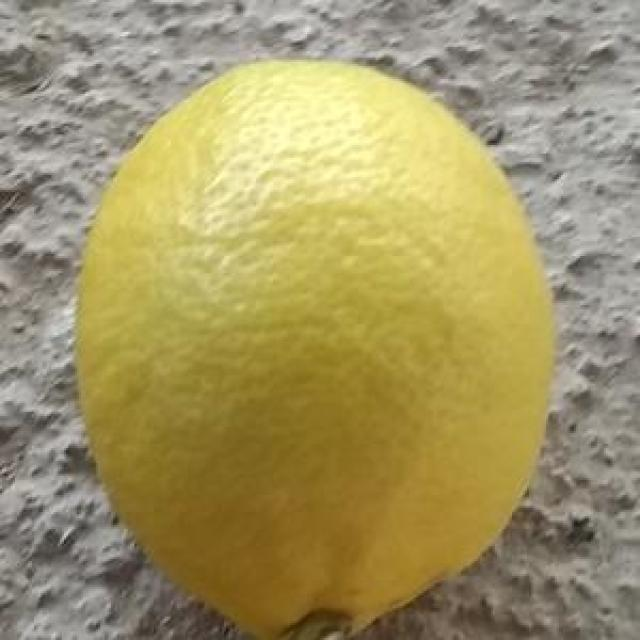lemon: (75, 54, 555, 640)
